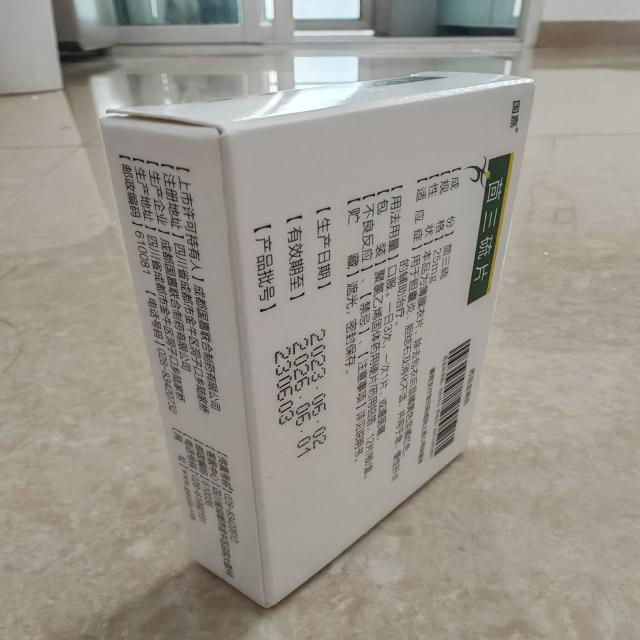box: (90, 64, 552, 617)
